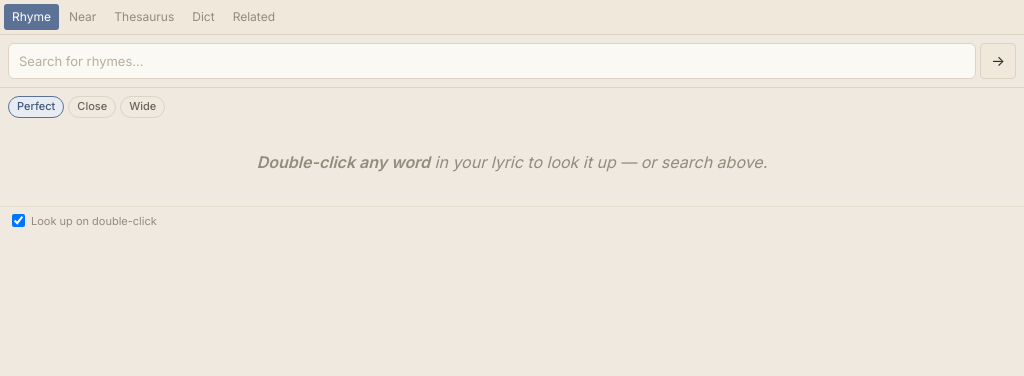
Test: Tools pane: syllable filter (C-50) › T-14.34: the chips offer only counts present in the results
In the field with test id "tools-search-input": (492, 61) [8,43,976,79], type "light"
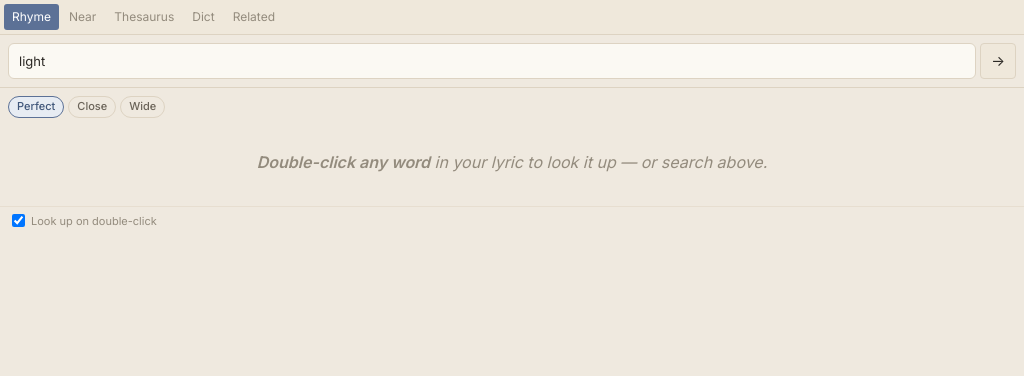
Click the button with test id "tools-search-button": (998, 61) [980,43,1016,79]
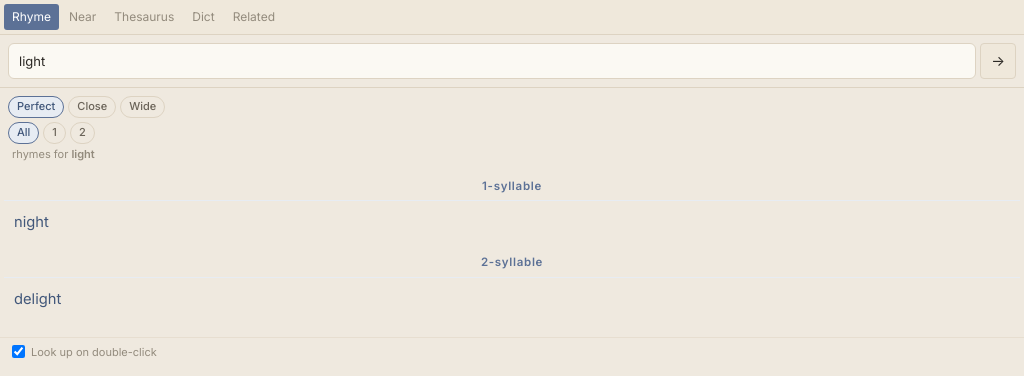
Expected: the element with test id "tools-results-list" is shown, [0,168,1023,336]
Expected: the button with test id "tools-syllable-chip-1" is shown, [43,122,66,144]
Expected: the button with test id "tools-syllable-chip-2" is shown, [70,122,95,144]
